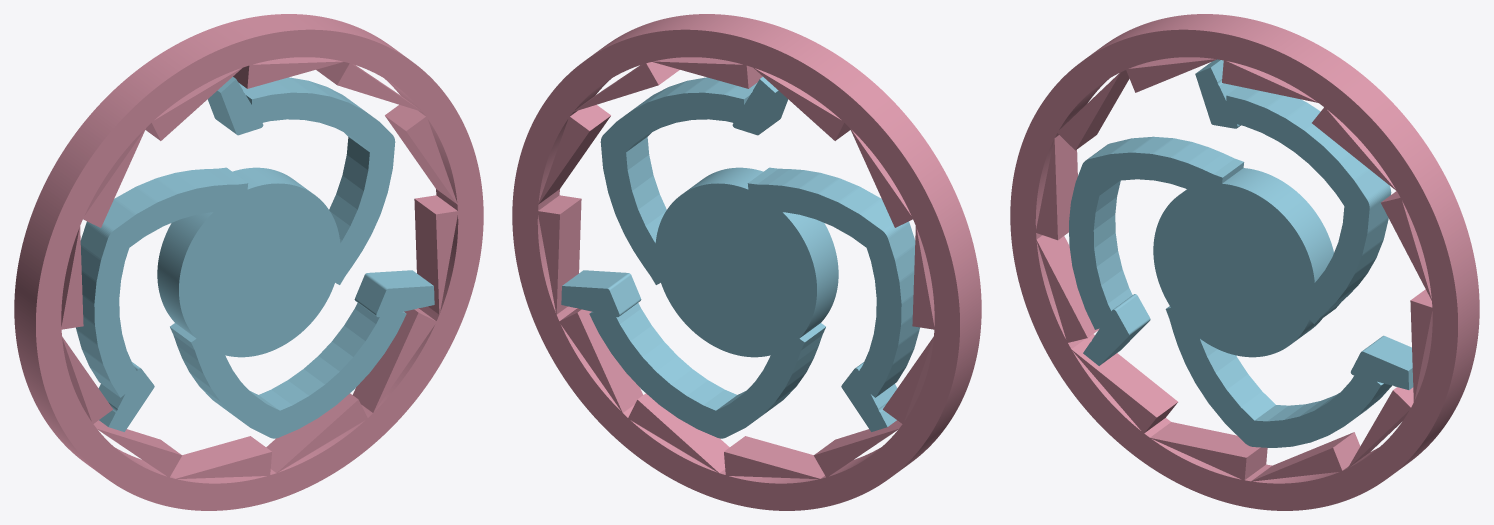
File: arc_ratchet_2d_demo.glb
The picture shows the model from 3 angles, left to right: view 1: azimuth 30°, elevation 25°; view 2: azimuth 150°, elevation 25°; view 3: azimuth 330°, elevation 25°; orthographic projection.
Parts seen in each view (by area): view 1: arc_ring, arc_flexure_hub; view 2: arc_ring, arc_flexure_hub; view 3: arc_ring, arc_flexure_hub.
Boxes of the visible parts, box(x1,y1,x2,y2) form: arc_ring: box(14, 14, 483, 510); arc_flexure_hub: box(76, 77, 434, 438); arc_ring: box(512, 14, 981, 510); arc_flexure_hub: box(561, 77, 919, 438); arc_ring: box(1010, 14, 1479, 510); arc_flexure_hub: box(1069, 59, 1413, 447).
Bounding box in the file's own units: 36 × 36 × 3.
